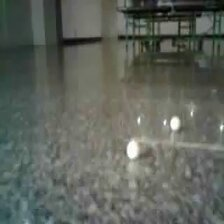w: (126, 140, 140, 160), (169, 116, 180, 131)
